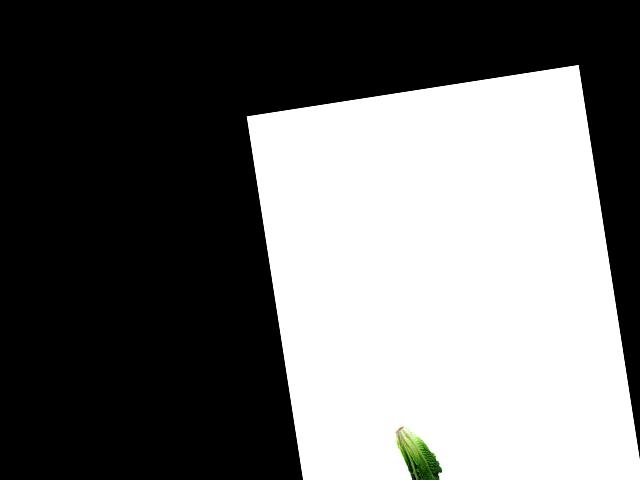lettuce: (392, 418, 443, 480)
